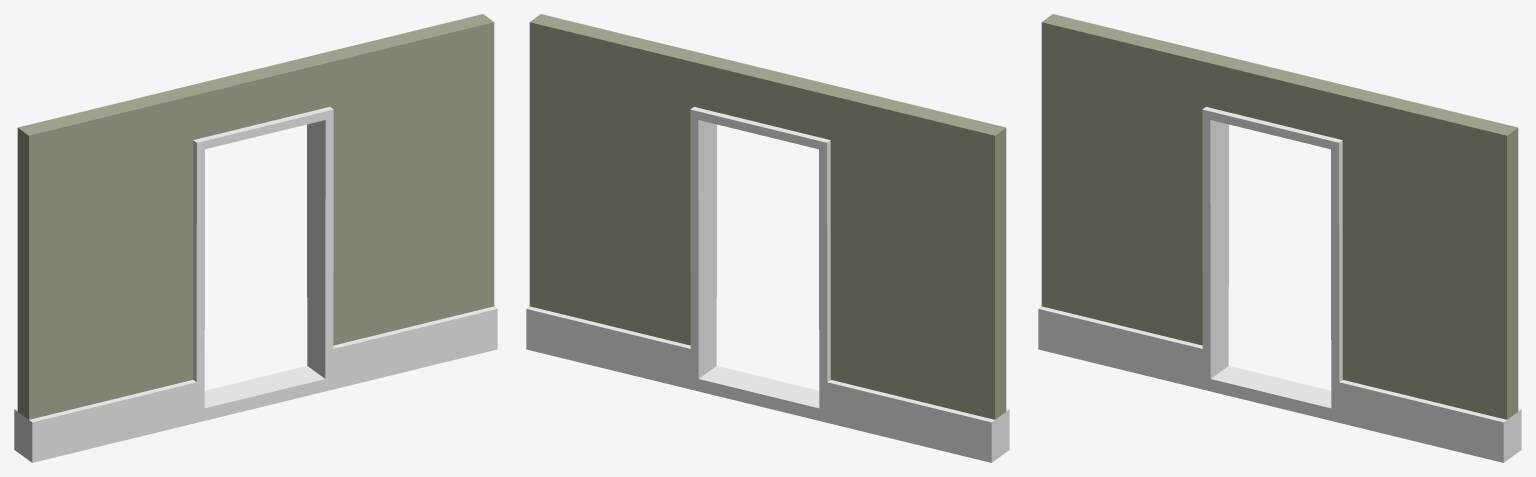
File: Wall_Door.fbx
3 renders of one model, left to right at view 1: azimuth 30°, elevation 25°; view 2: azimuth 150°, elevation 25°; view 3: azimuth 330°, elevation 25°, orthographic.
Parts seen in each view (by area): view 1: Wall_Door; view 2: Wall_Door; view 3: Wall_Door.
Boxes of the visible parts, x1=… form: Wall_Door: x1=14, y1=14, x2=497, y2=462; Wall_Door: x1=526, y1=14, x2=1009, y2=462; Wall_Door: x1=1038, y1=14, x2=1521, y2=462.
Bounding box in the file's own units: 494 × 330 × 34.23.
